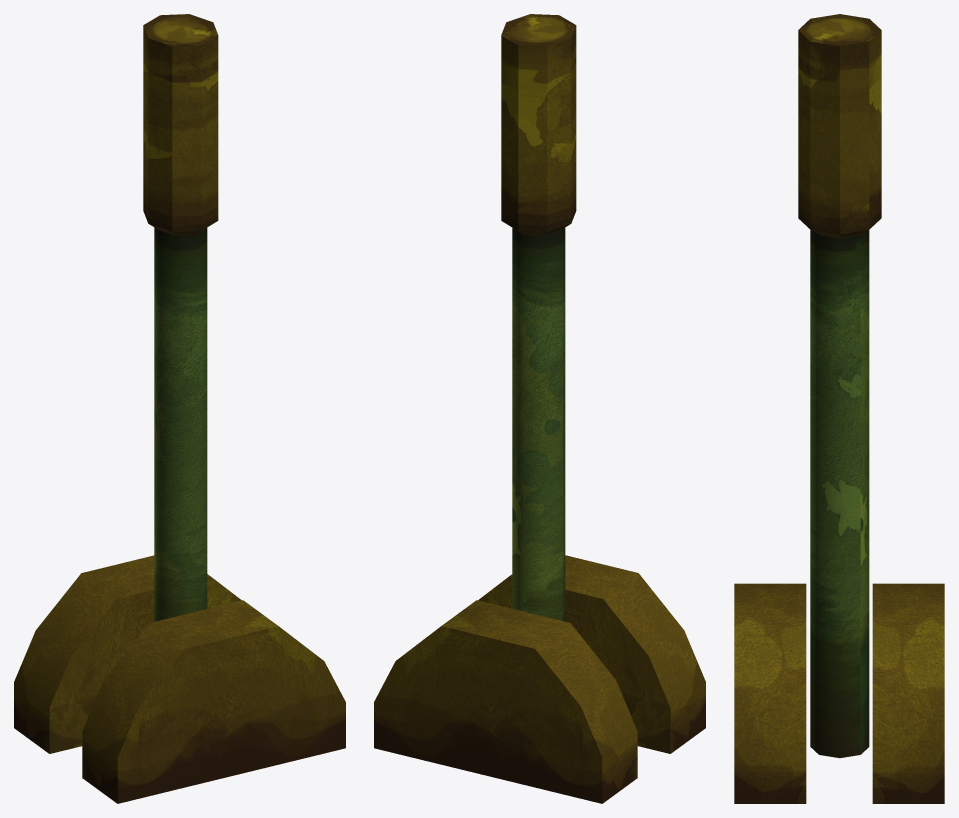
Rendered from Lever.FBX.
3 renders of one model, left to right at view 1: azimuth 30°, elevation 25°; view 2: azimuth 150°, elevation 25°; view 3: azimuth 270°, elevation 25°, orthographic.
Visible parts, largest first — view 1: Base, Handle; view 2: Base, Handle; view 3: Handle, Base.
Part boxes in pixels (bbox=[...]): Base: bbox=[14, 555, 345, 803]; Handle: bbox=[143, 14, 218, 621]; Base: bbox=[374, 555, 705, 803]; Handle: bbox=[501, 14, 576, 621]; Handle: bbox=[798, 14, 881, 758]; Base: bbox=[734, 583, 944, 803].
Size of the model in its own units: 28.18 by 83.47 by 22.15.
